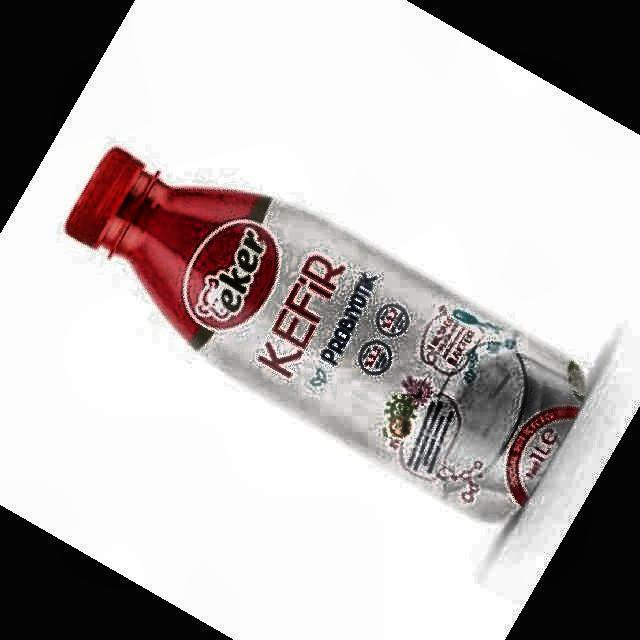plastic: (66, 148, 588, 519)
